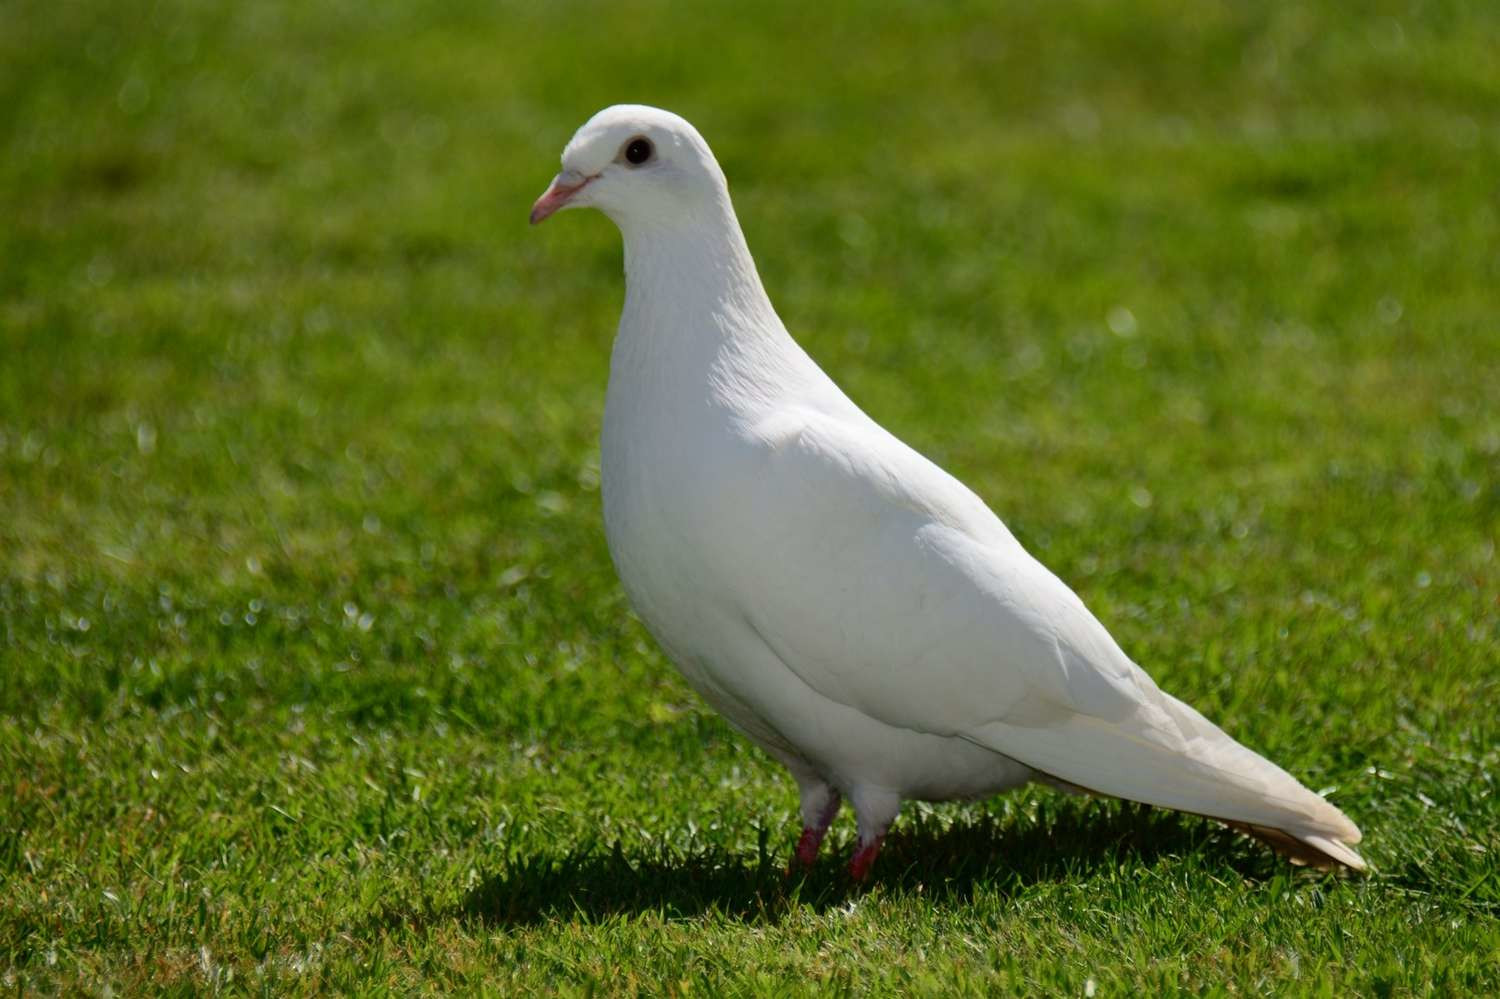bird: (524, 101, 1376, 888)
